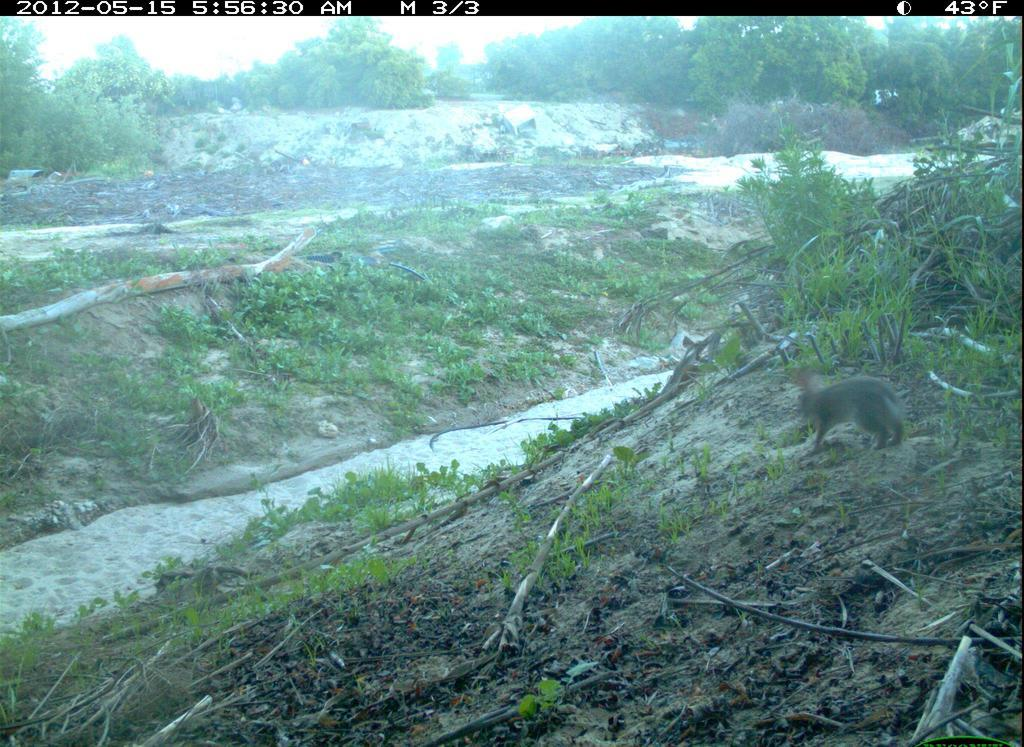rabbit: (786, 359, 917, 456)
